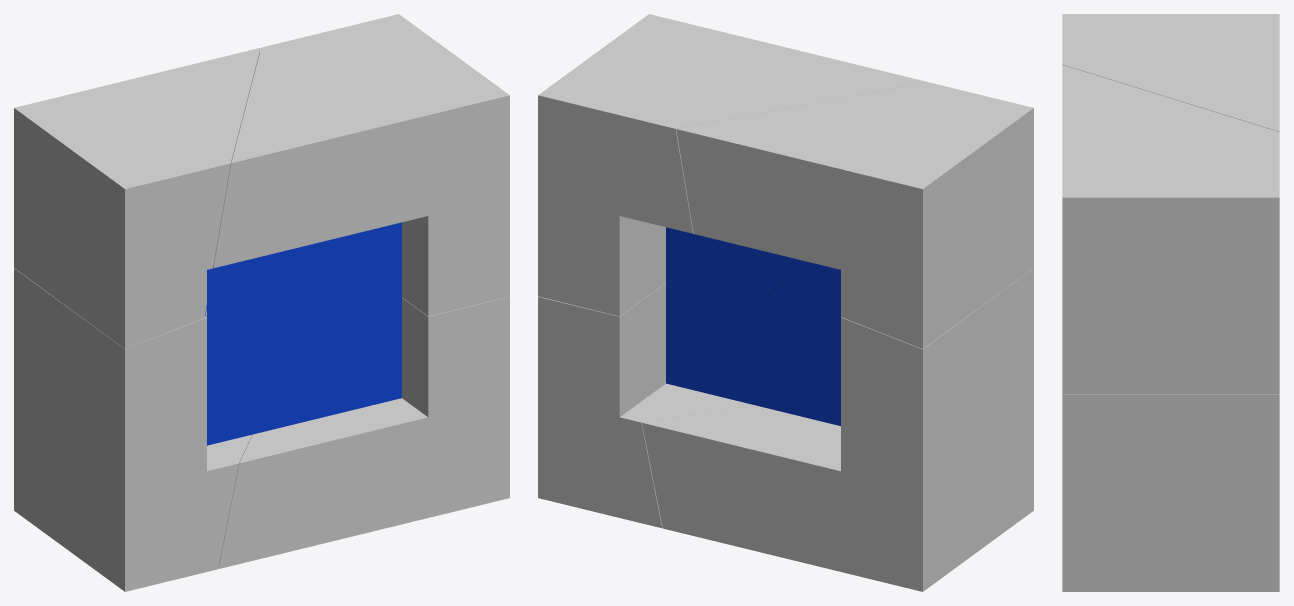
The model's file is Window 2x2x1 Fractured.fbx.
The picture shows the model from 3 angles, left to right: view 1: azimuth 30°, elevation 25°; view 2: azimuth 150°, elevation 25°; view 3: azimuth 270°, elevation 25°; orthographic projection. The views are drawn at different scales.
Visible parts, largest first — view 1: Window Concrete 2x2x1_cell.001, Window Concrete 2x2x1_cell, Window Concrete 2x2x1_cell.003, Window Concrete 2x2x1_cell.002, Glass_cell.001, Glass_cell; view 2: Window Concrete 2x2x1_cell.003, Window Concrete 2x2x1_cell, Window Concrete 2x2x1_cell.001, Window Concrete 2x2x1_cell.002, Glass_cell, Glass_cell.001; view 3: Window Concrete 2x2x1_cell.001, Window Concrete 2x2x1_cell.002, Window Concrete 2x2x1_cell.
Boxes of the visible parts, <box> form: Window Concrete 2x2x1_cell.001: <box>213,14,509,316</box>; Window Concrete 2x2x1_cell: <box>14,48,260,348</box>; Window Concrete 2x2x1_cell.003: <box>14,268,252,591</box>; Window Concrete 2x2x1_cell.002: <box>218,296,509,568</box>; Glass_cell.001: <box>228,222,401,404</box>; Glass_cell: <box>205,265,372,445</box>; Window Concrete 2x2x1_cell.003: <box>642,268,1033,591</box>; Window Concrete 2x2x1_cell: <box>676,82,1033,348</box>; Window Concrete 2x2x1_cell.001: <box>538,14,927,316</box>; Window Concrete 2x2x1_cell.002: <box>538,283,756,528</box>; Glass_cell: <box>675,261,840,425</box>; Glass_cell.001: <box>666,227,804,385</box>; Window Concrete 2x2x1_cell.001: <box>1062,65,1279,394</box>; Window Concrete 2x2x1_cell.002: <box>1062,394,1279,591</box>; Window Concrete 2x2x1_cell: <box>1062,14,1279,131</box>.
Size of the model in its own units: 2 by 2 by 1.
